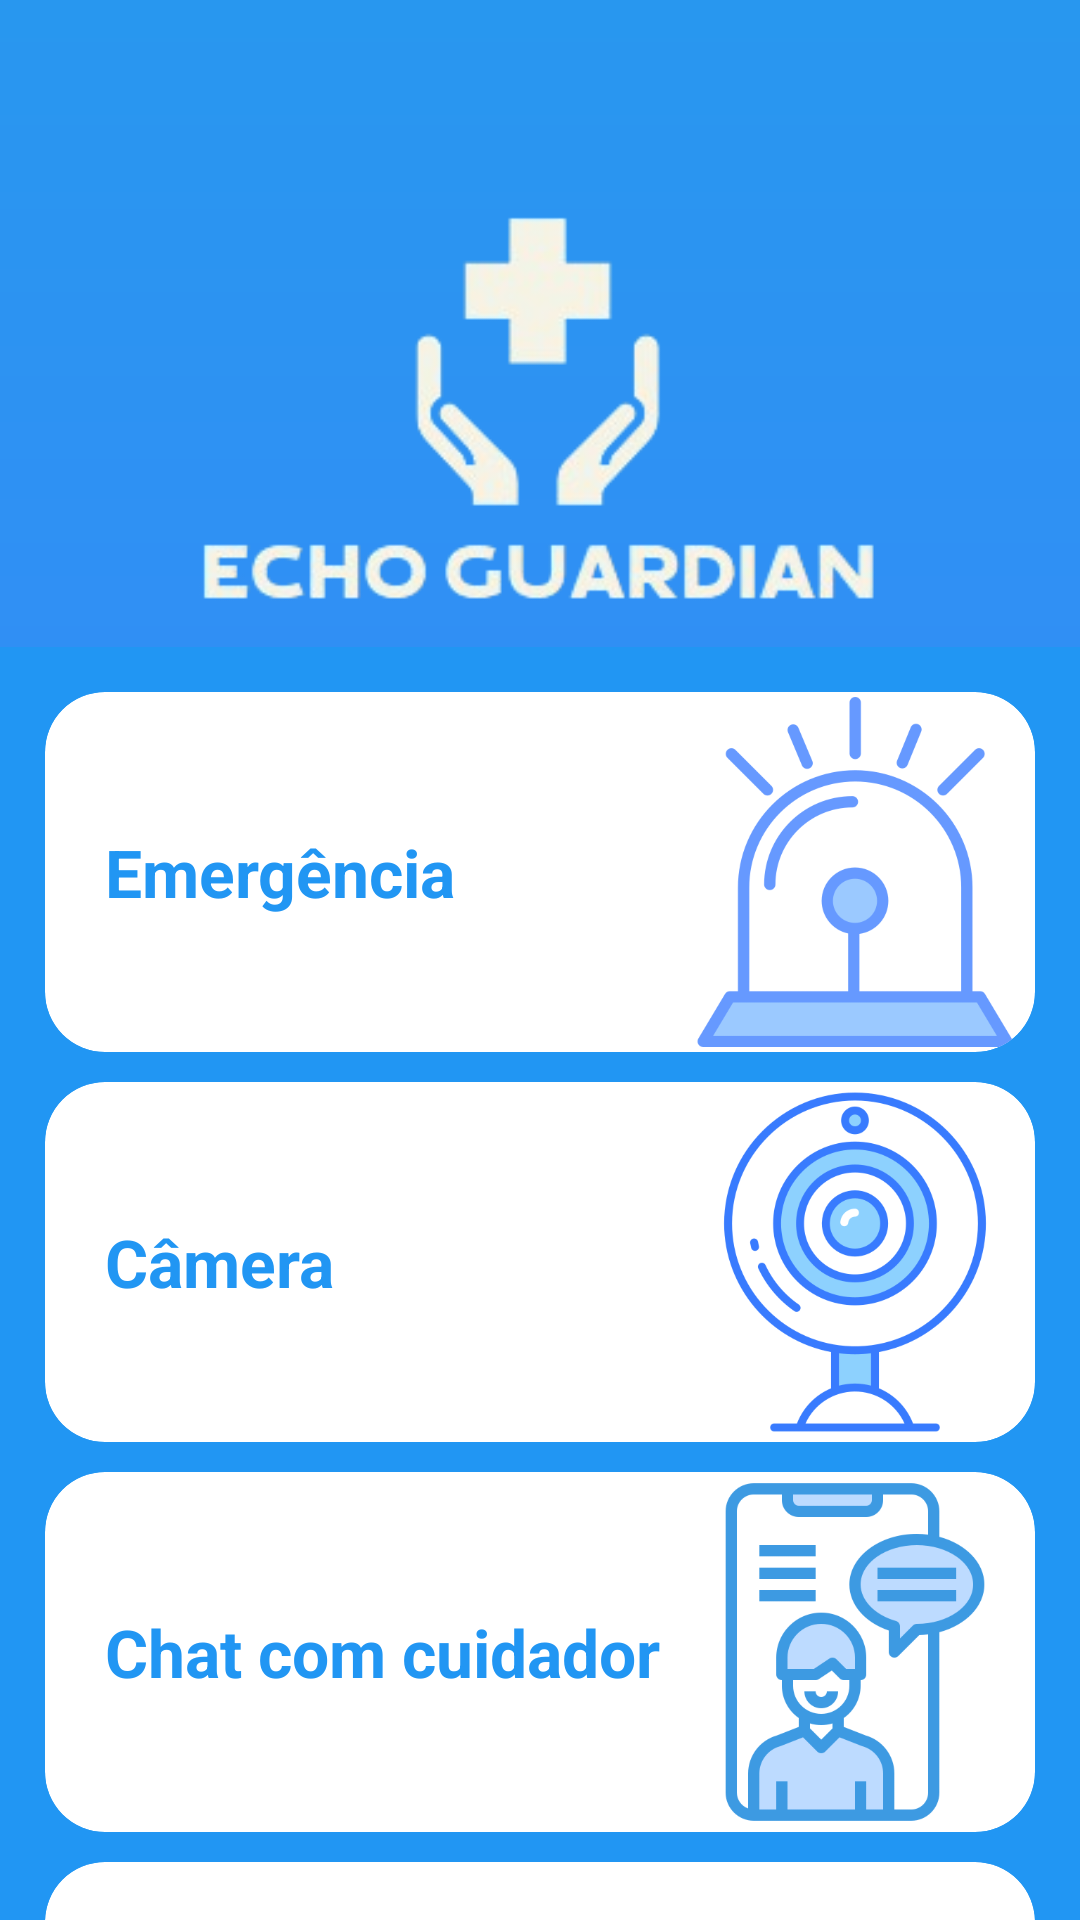

Screen size 1080*1920. Icon name, then its center in pixels as (x=x, y=y):
emergencia: (x=855, y=872)
webcam: (x=855, y=1262)
